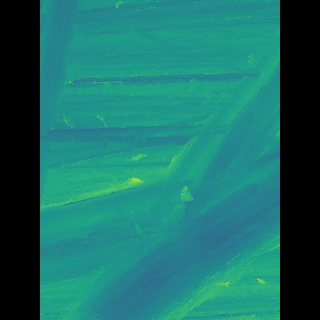Loch: (86, 32, 250, 320)
